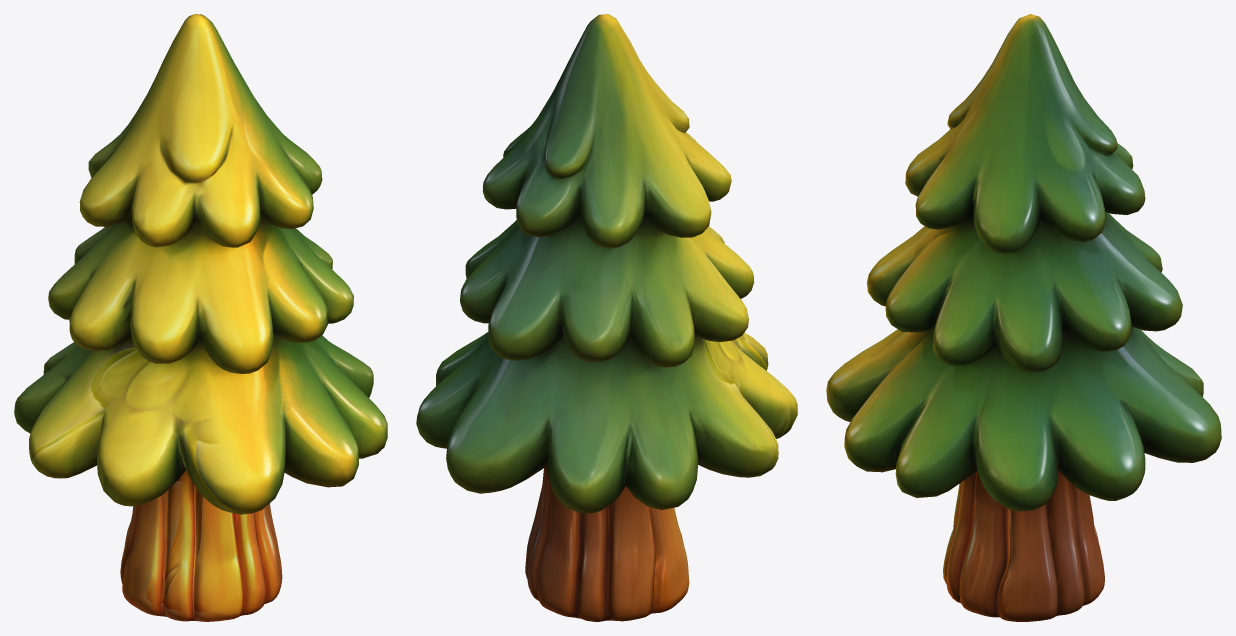
Rendered from P_Pine_HD_src.glb.
The picture shows the model from 3 angles, left to right: view 1: azimuth 30°, elevation 25°; view 2: azimuth 150°, elevation 25°; view 3: azimuth 270°, elevation 25°; orthographic projection.
Parts seen in each view (by area): view 1: tripo_node_00e39237-e24f-43f3-bd65-cffae23045f7; view 2: tripo_node_00e39237-e24f-43f3-bd65-cffae23045f7; view 3: tripo_node_00e39237-e24f-43f3-bd65-cffae23045f7.
Part boxes in pixels (x1,y1,x2,y2): tripo_node_00e39237-e24f-43f3-bd65-cffae23045f7: (14,14,387,621); tripo_node_00e39237-e24f-43f3-bd65-cffae23045f7: (416,14,797,621); tripo_node_00e39237-e24f-43f3-bd65-cffae23045f7: (826,14,1221,621).
Bounding box in the file's own units: 0.5974 × 0.9786 × 0.6083.
Materials: 1 (1 with a texture image).
